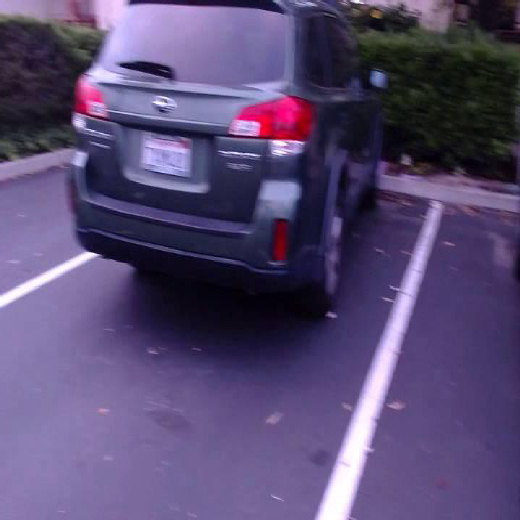license_plate: (137, 131, 191, 173)
vehicle: (66, 3, 384, 307)
